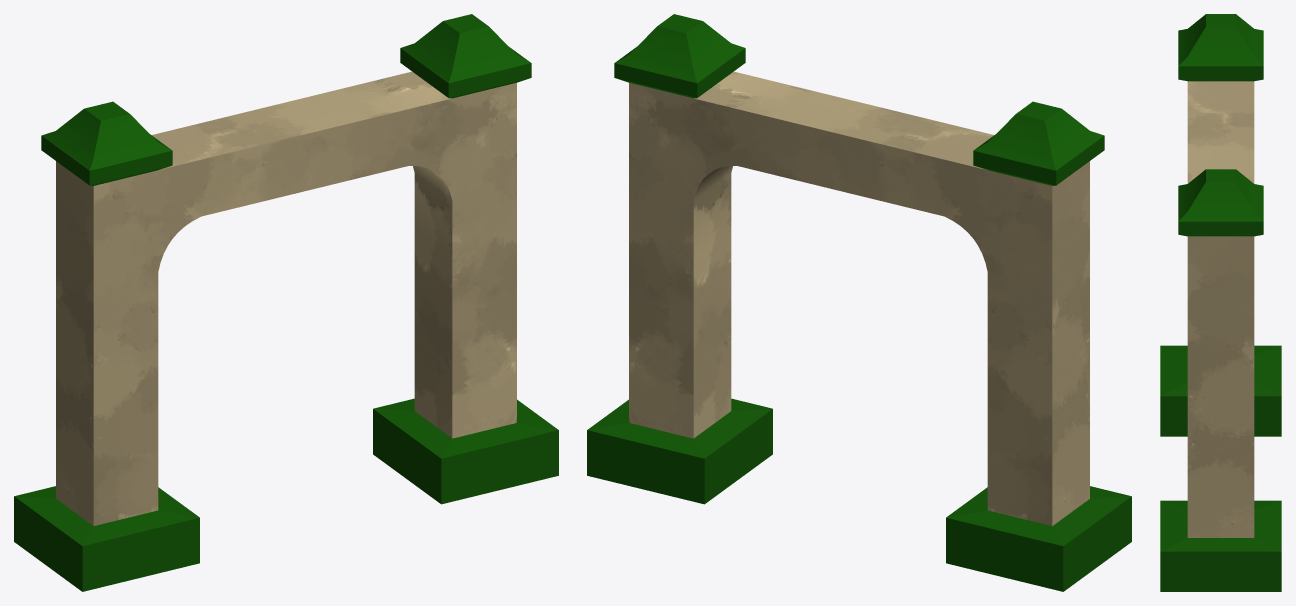
The model's file is arch2.fbx.
The picture shows the model from 3 angles, left to right: view 1: azimuth 30°, elevation 25°; view 2: azimuth 150°, elevation 25°; view 3: azimuth 270°, elevation 25°; orthographic projection. The views are drawn at different scales.
Parts seen in each view (by area): view 1: Box003; view 2: Box003; view 3: Box003.
Boxes of the visible parts, bbox=[...] form: Box003: bbox=[14, 14, 558, 591]; Box003: bbox=[587, 14, 1131, 591]; Box003: bbox=[1160, 14, 1281, 591].
Bounding box in the file's own units: 368 × 326 × 91.6.
